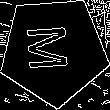M_E: (27, 26, 80, 76)
